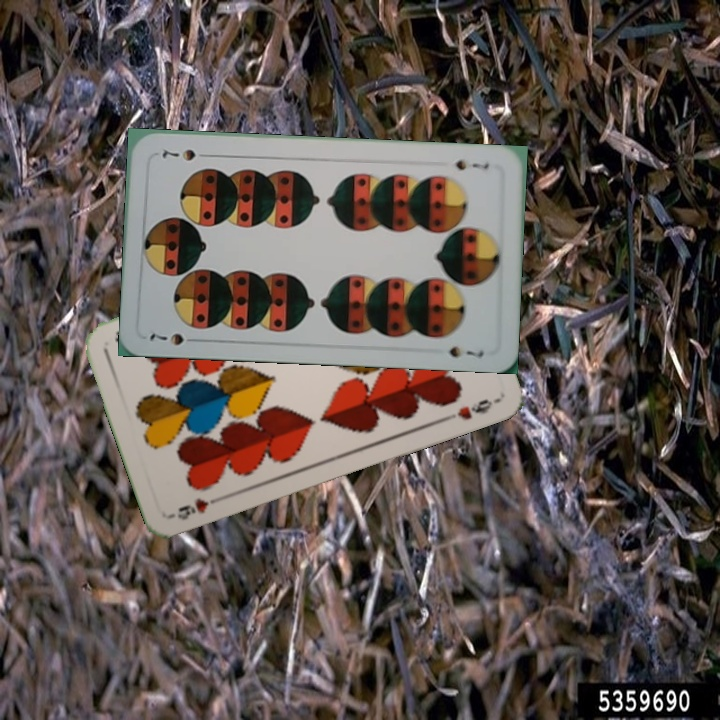H9: (173, 492, 225, 523)
S7: (145, 329, 202, 348), (450, 156, 492, 174)
